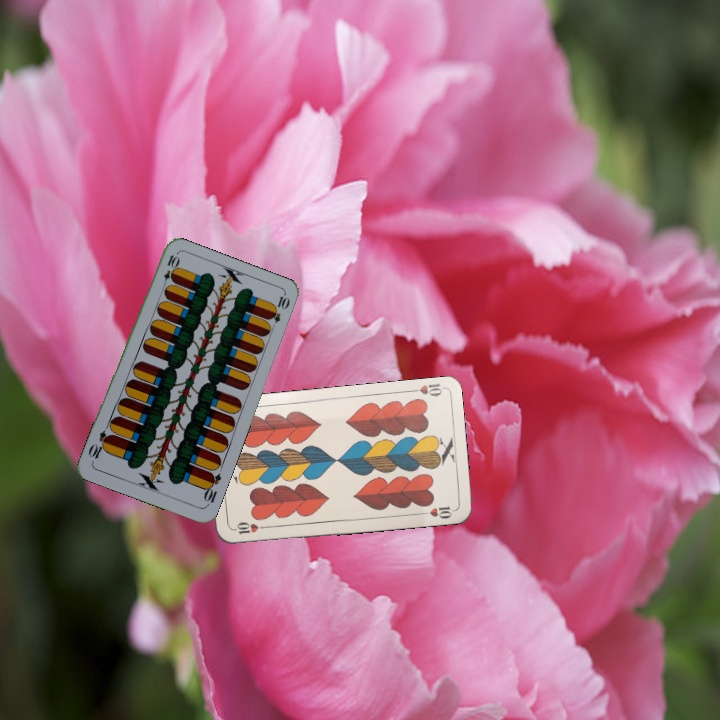E10: (199, 468, 224, 509), (159, 251, 180, 291)
H10: (405, 380, 445, 399), (228, 519, 269, 537)
